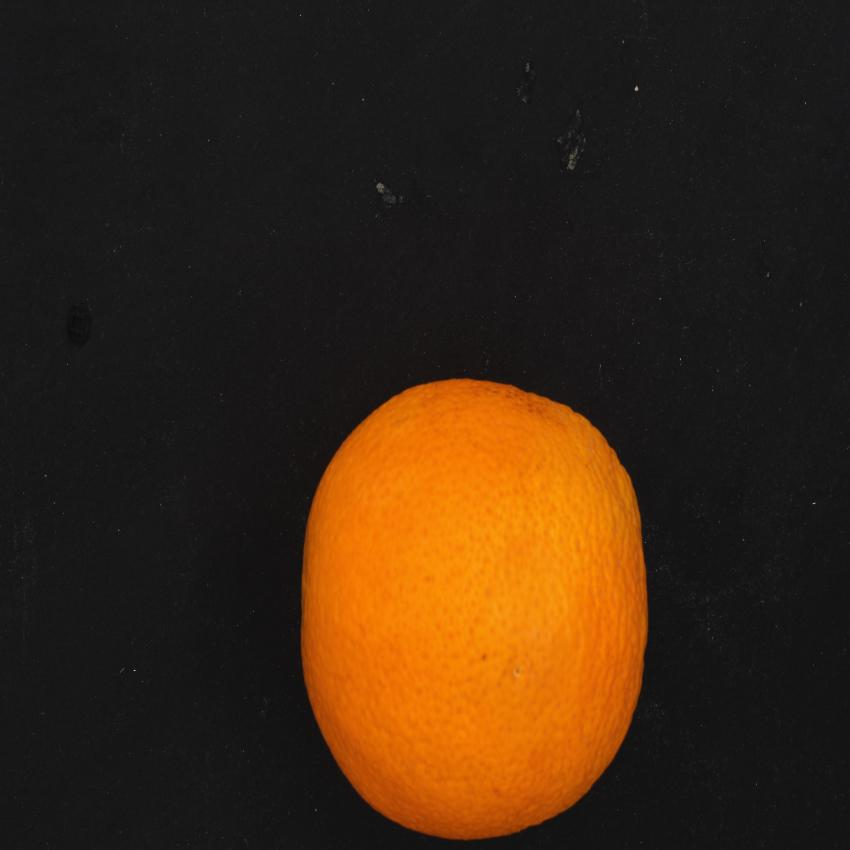Buen estado: (291, 363, 667, 845)
